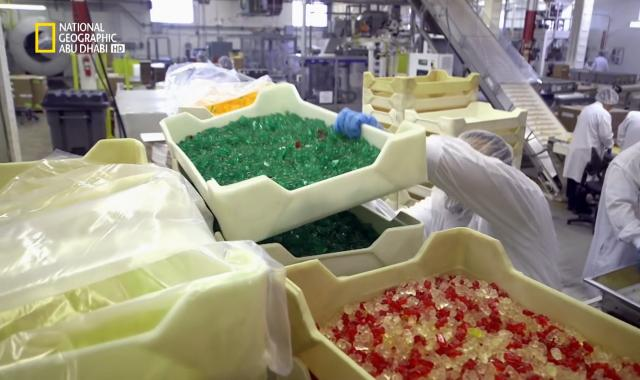hairnet: (458, 127, 522, 166), (594, 85, 620, 106)
